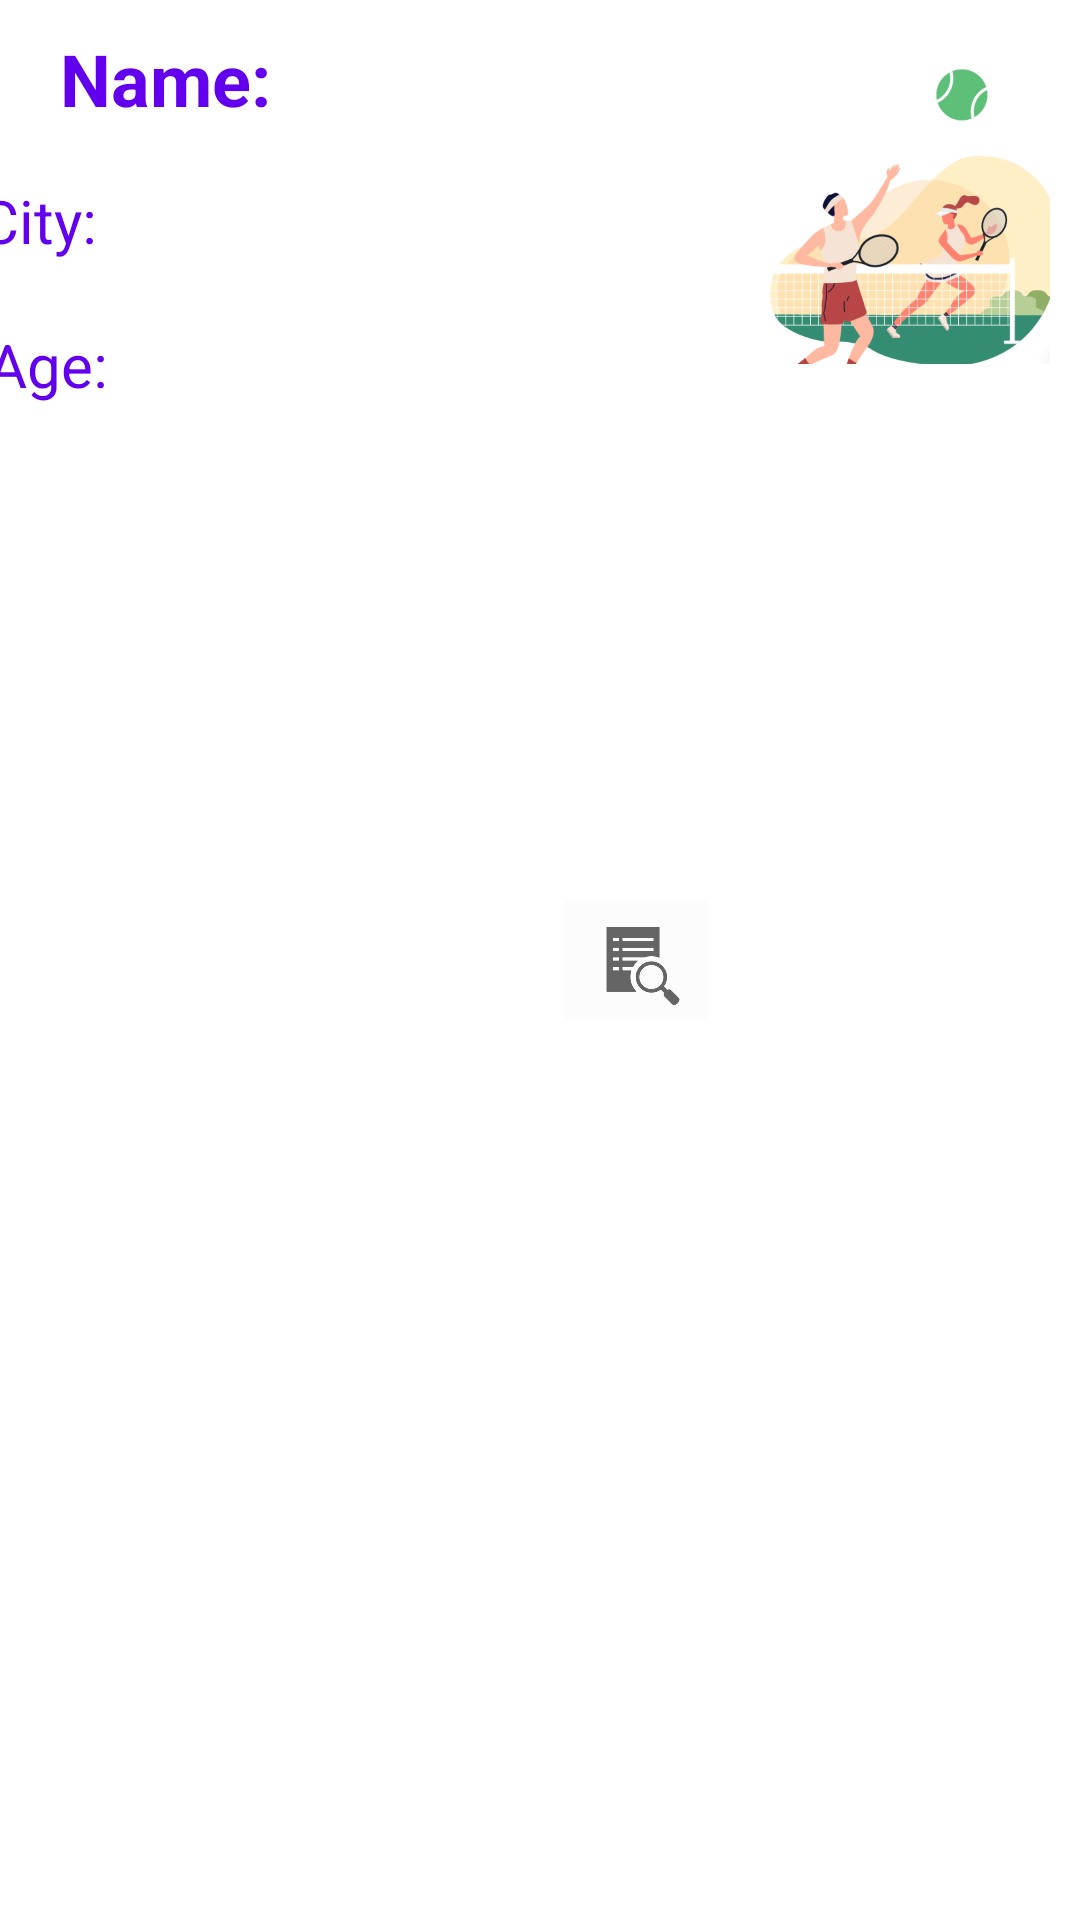

Where to tap for icons on this 1080 × 1920 app screen, as (x,y):
tennis: (910,216)
